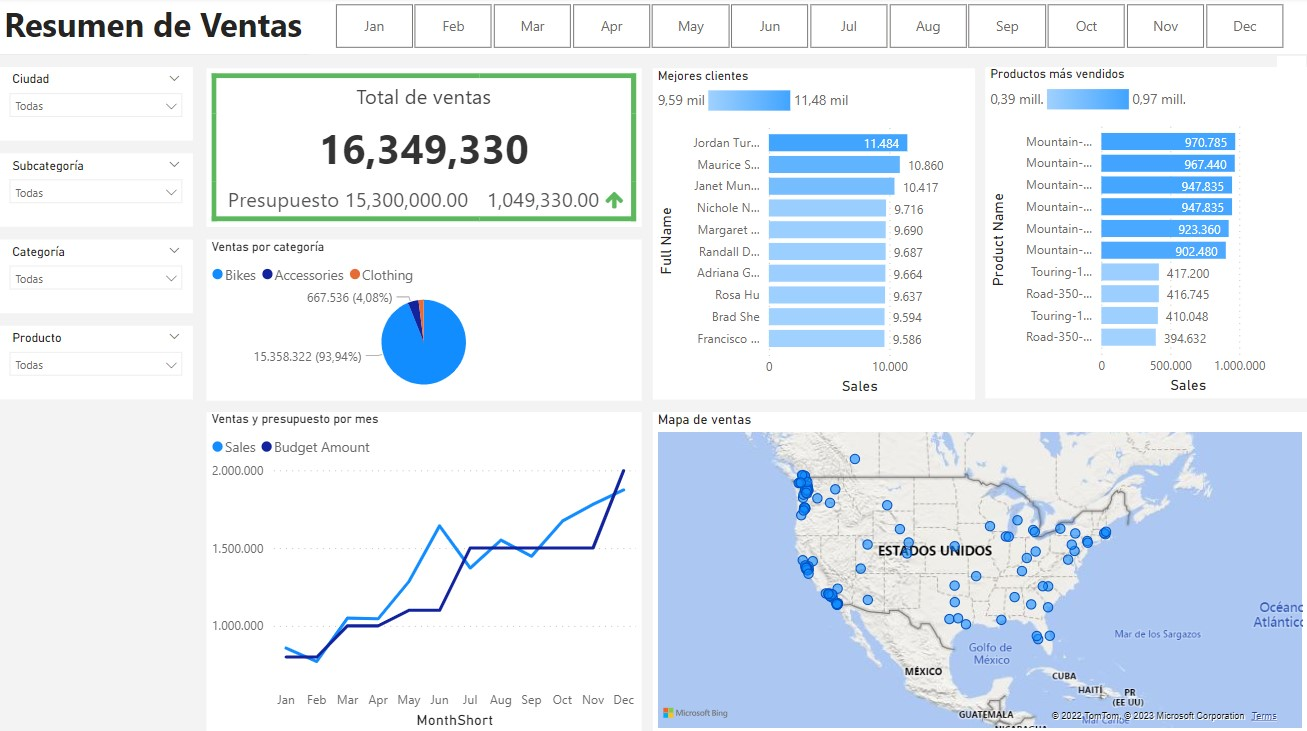

This screenshot's page, from the dashboard's own definition file:
{"tool":"powerbi","page":{"name":"Resumen de Ventas","canvas":[1280,720],"ordinal":0},"visuals":[{"type":"textbox","box":[0,0,1280.3,56.3],"z":0},{"type":"slicer","fields":{"Values":["DIM_Customers.Customer City"]},"box":[0,68.5,189.5,72.1],"z":1000},{"type":"slicer","fields":{"Values":["DIM_Products.Sub Category"]},"box":[0,152.8,189.5,72.1],"z":2000},{"type":"slicer","fields":{"Values":["DIM_Products.Product Category"]},"box":[0,237.1,189.5,72.1],"z":3000},{"type":"slicer","fields":{"Values":["DIM_Products.Product Name"]},"box":[0,321.5,189.5,72.1],"z":4000},{"type":"slicer","fields":{"Values":["DIM_Calendar.Year"]},"box":[0,600,41.4,69],"z":5000},{"type":"slicer","fields":{"Values":["DIM_Calendar.MonthShort"]},"box":[303.2,0,976.7,56.2],"z":6000},{"type":"BBED0A4D4D8D44CE93CF2DAFADEE466C","fields":{"actual":["FACT_InternetSales.Sales"],"target1":["FACT_Budget.Budget Amount"],"target2":["FACT_Budget.Sales - Budget"]},"box":[203.4,70.1,425.3,155.2],"z":7000},{"type":"pieChart","title":"Ventas por categoría","fields":{"Category":["DIM_Products.Product"],"Y":["FACT_InternetSales.Sales"]},"box":[203.4,236.8,425.3,157.5],"z":8000},{"type":"lineChart","title":"Ventas y presupuesto por mes","fields":{"Y":["FACT_InternetSales.Sales","FACT_Budget.Budget Amount"],"Category":["DIM_Calendar.MonthShort"]},"box":[203.4,405.7,425.3,313.8],"z":9000},{"type":"clusteredBarChart","title":"Mejores clientes","fields":{"Y":["FACT_InternetSales.Sales"],"Category":["DIM_Customers.Full Name"]},"box":[639.1,70.1,314.9,324.1],"z":10000},{"type":"clusteredBarChart","title":"Productos más vendidos","fields":{"Y":["FACT_InternetSales.Sales"],"Category":["DIM_Products.Product Name"]},"box":[965.1,69,314.9,324.1],"z":11000},{"type":"map","title":"Mapa de ventas","fields":{"Category":["DIM_Customers.Customer City"]},"box":[639.1,405.7,640.2,313.8],"z":11002}]}

Visuals, with their boxes in screenshot pixels (x1, y1, x2, y2), scaled from the page's 1280x720 canvas onto the 1307x731 screenshot:
textbox: bbox=(0, 0, 1306, 57)
slicer - DIM_Customers.Customer City: bbox=(0, 70, 193, 143)
slicer - DIM_Products.Sub Category: bbox=(0, 155, 193, 228)
slicer - DIM_Products.Product Category: bbox=(0, 241, 193, 314)
slicer - DIM_Products.Product Name: bbox=(0, 326, 193, 400)
slicer - DIM_Calendar.Year: bbox=(0, 609, 42, 679)
slicer - DIM_Calendar.MonthShort: bbox=(310, 0, 1306, 57)
BBED0A4D4D8D44CE93CF2DAFADEE466C - FACT_InternetSales.Sales x FACT_Budget.Budget Amount: bbox=(208, 71, 642, 229)
"Ventas por categoría" pieChart: bbox=(208, 240, 642, 400)
"Ventas y presupuesto por mes" lineChart: bbox=(208, 412, 642, 730)
"Mejores clientes" clusteredBarChart: bbox=(653, 71, 974, 400)
"Productos más vendidos" clusteredBarChart: bbox=(985, 70, 1306, 399)
"Mapa de ventas" map: bbox=(653, 412, 1306, 730)
